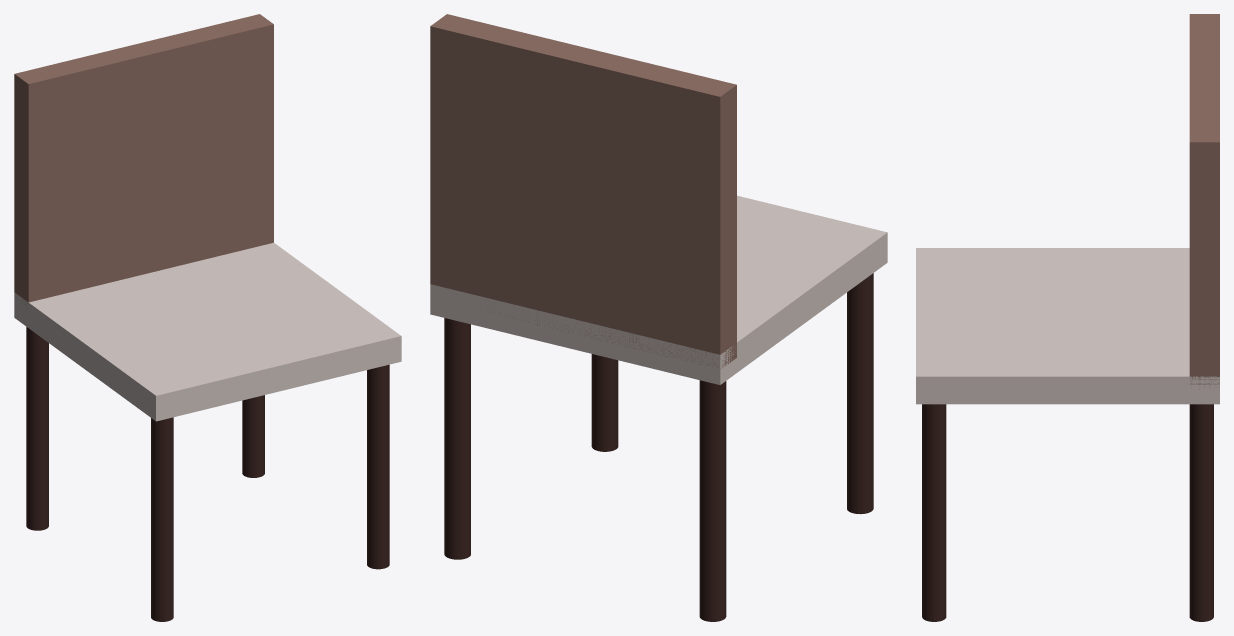
File: chair.glb
The picture shows the model from 3 angles, left to right: view 1: azimuth 30°, elevation 25°; view 2: azimuth 150°, elevation 25°; view 3: azimuth 270°, elevation 25°; orthographic projection. The views are drawn at different scales.
Visible parts, largest first — view 1: Chair; view 2: Chair; view 3: Chair.
Part boxes in pixels (bbox=[...]): Chair: bbox=[14, 14, 401, 621]; Chair: bbox=[430, 14, 887, 621]; Chair: bbox=[916, 14, 1219, 621].
Bounding box in the file's own units: 0.5 × 0.875 × 0.5.
